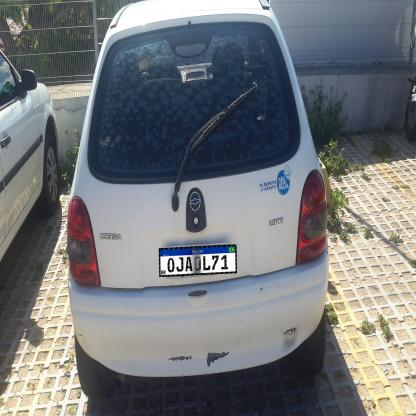PlacaM: (159, 244, 237, 277)
